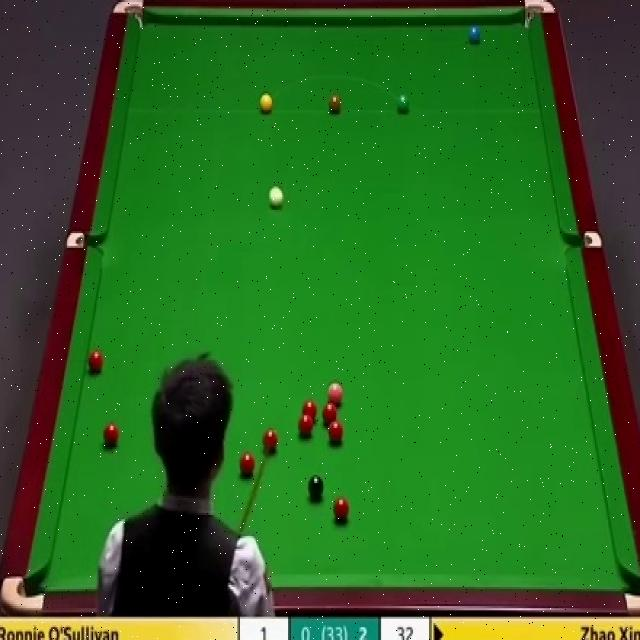black-ball: (308, 474, 325, 504)
blue-ball: (468, 23, 480, 45)
brown-ball: (329, 93, 342, 114)
green-ball: (395, 93, 411, 116)
pink-ball: (327, 380, 343, 406)
red-ball: (102, 419, 119, 448), (333, 496, 351, 523), (297, 414, 316, 438), (328, 418, 344, 446), (238, 452, 256, 476), (321, 400, 339, 424), (261, 427, 278, 452), (88, 350, 104, 374), (302, 399, 318, 421)
white-ball: (267, 185, 284, 211)
yellow-ball: (258, 93, 274, 114)
